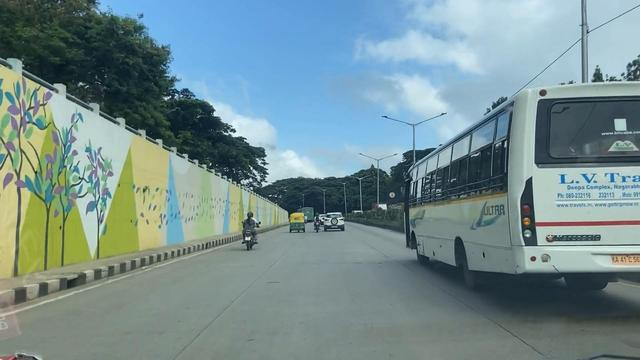HMV: (397, 100, 640, 274)
LMV: (239, 211, 260, 249)
